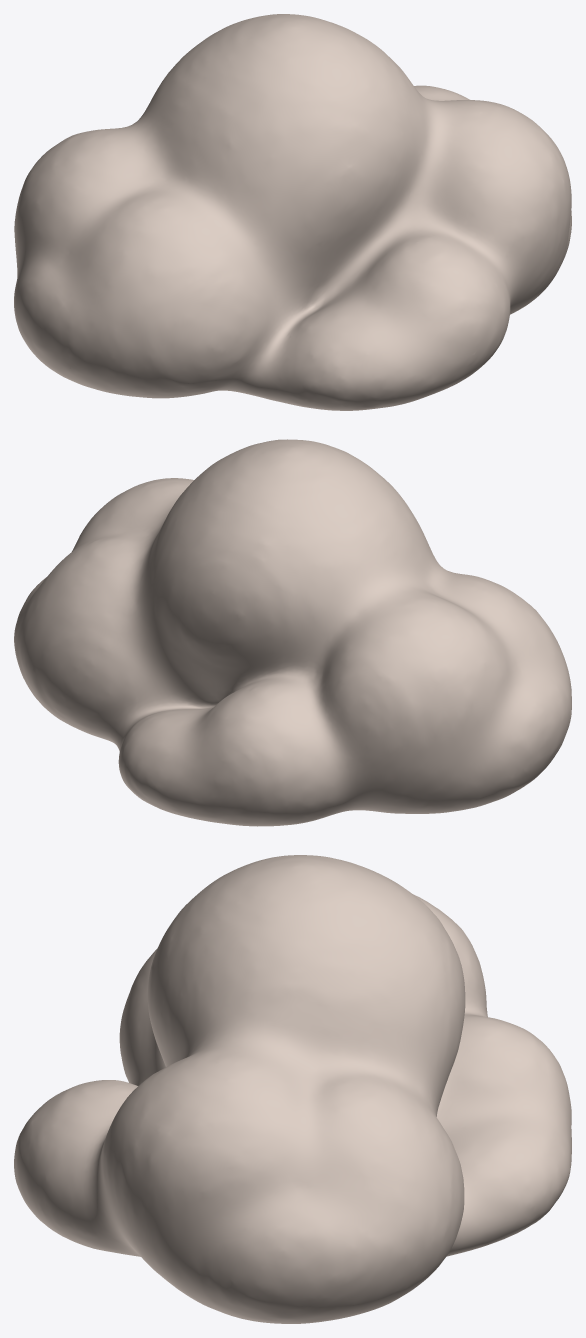
Rendered from cloud-smoothed.glb.
3 views of the same model, one above another, from view 1: azimuth 30°, elevation 25°; view 2: azimuth 150°, elevation 25°; view 3: azimuth 270°, elevation 25° (orthographic). The views are drawn at different scales.
Visible parts, largest first — view 1: Mesh_0; view 2: Mesh_0; view 3: Mesh_0.
Boxes of the visible parts, x1,y1,x2,y2 form: Mesh_0: (14,14,571,410); Mesh_0: (14,439,571,826); Mesh_0: (14,855,571,1323).
Bounding box in the file's own units: 0.9895 × 0.5557 × 0.801.
